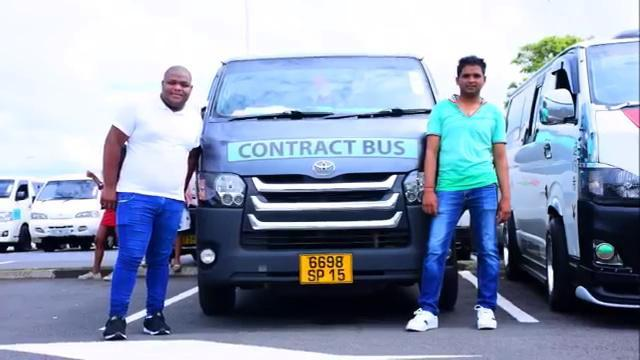van: (199, 52, 466, 317)
